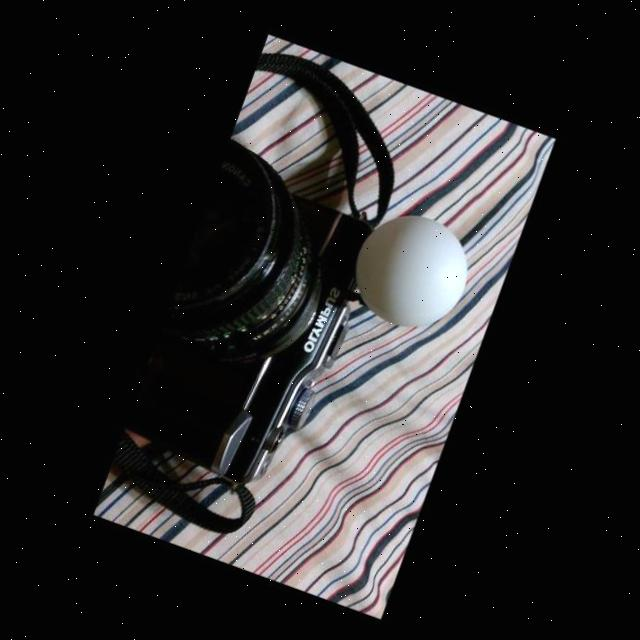ping-pong-ball: (338, 199, 482, 344)
